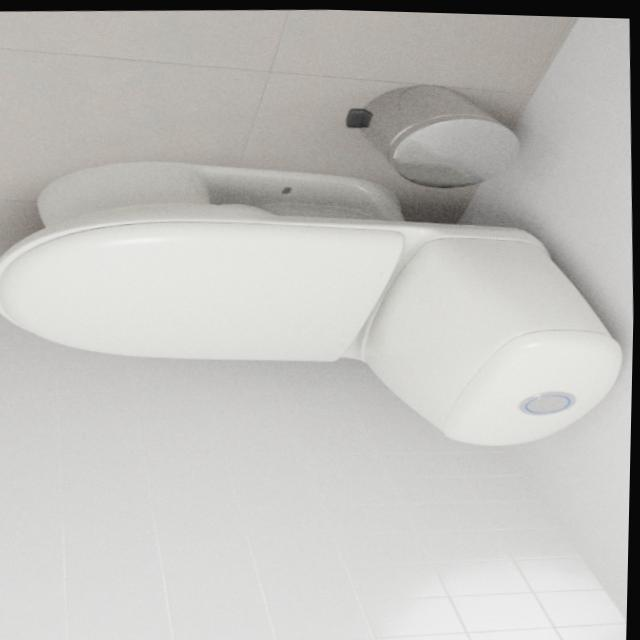toilet: (0, 140, 631, 465)
